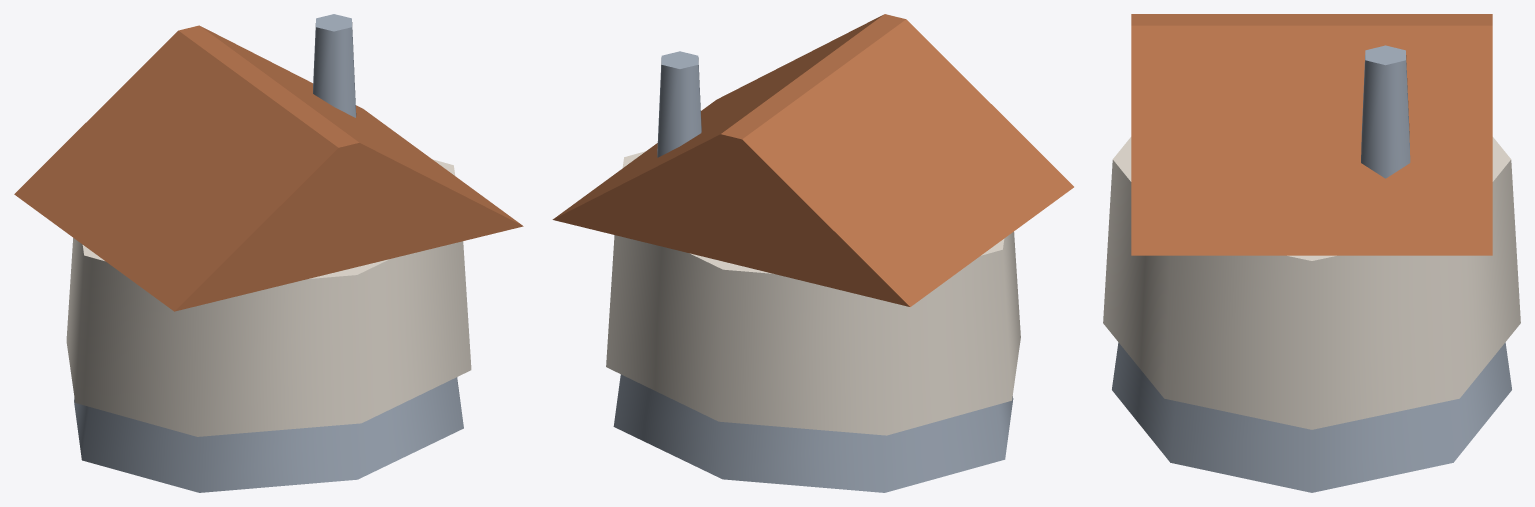
Rendered from house_medieval.glb.
3 renders of one model, left to right at view 1: azimuth 30°, elevation 25°; view 2: azimuth 150°, elevation 25°; view 3: azimuth 270°, elevation 25°, orthographic. The views are drawn at different scales.
Visible parts, largest first — view 1: pitched_roof, plaster_walls, stone_foundation; view 2: pitched_roof, plaster_walls, stone_foundation; view 3: pitched_roof, plaster_walls, stone_foundation.
Boxes of the visible parts, x1,y1,x2,y2 form: pitched_roof: (14,25,523,311); plaster_walls: (66,159,471,436); stone_foundation: (74,14,463,492); pitched_roof: (552,14,1073,306); plaster_walls: (606,151,1020,435); stone_foundation: (613,51,1013,492); pitched_roof: (1131,14,1492,255); plaster_walls: (1103,137,1520,429); stone_foundation: (1112,45,1511,492).
Bounding box in the file's own units: 7.54 × 6.4 × 6.24.
